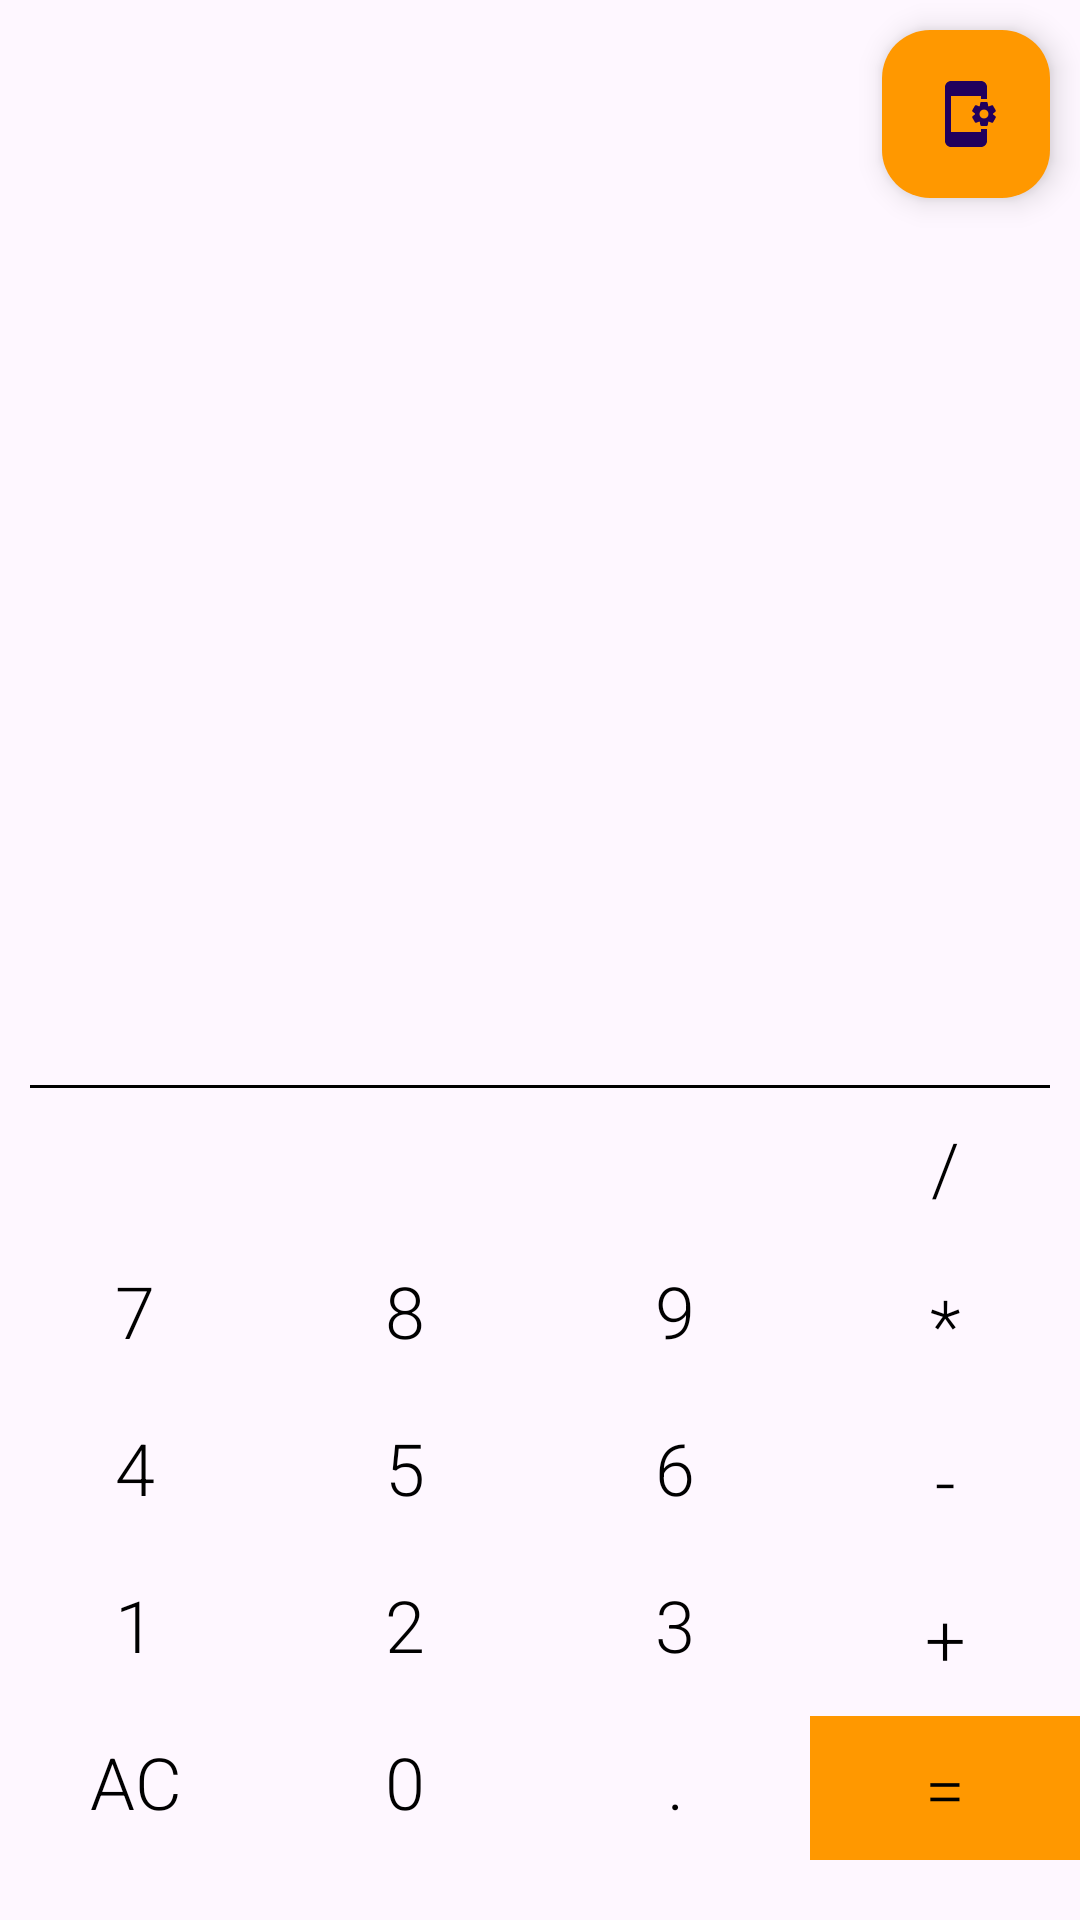

Icons on this 1080w x 1920h Android screen, each with its box as (x1, y1, x2, y2):
settings: (882, 30, 1050, 198)
